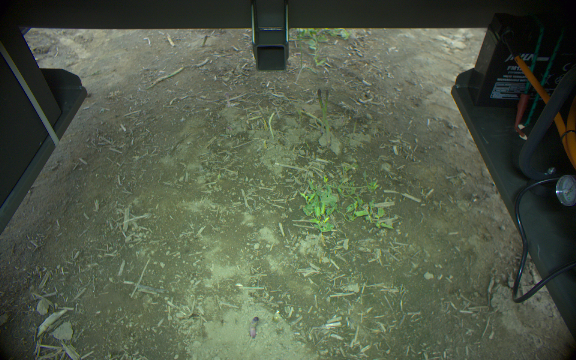aspa: (316, 90, 332, 148), (320, 90, 330, 135), (246, 313, 262, 340)
